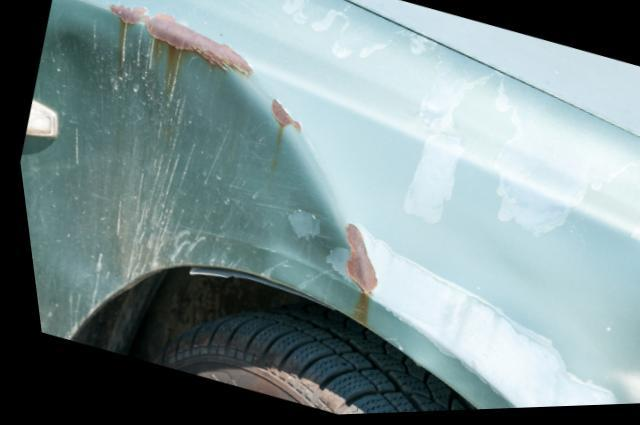dent: (16, 19, 356, 323)
